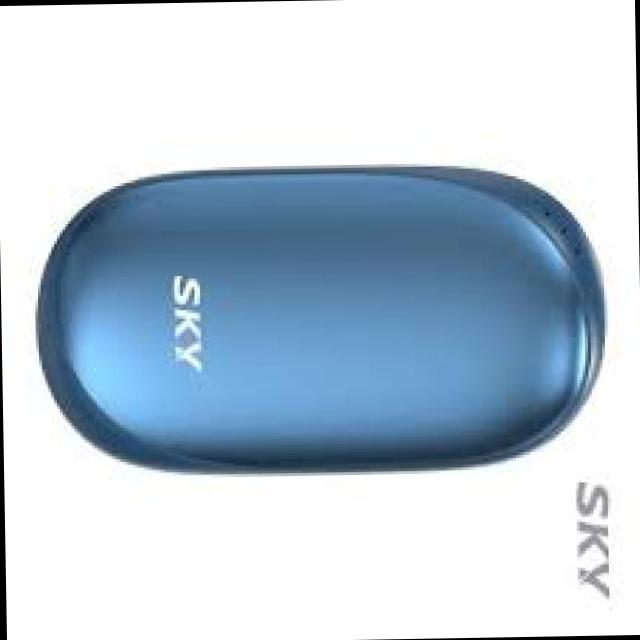portable-charger: (36, 163, 610, 481)
